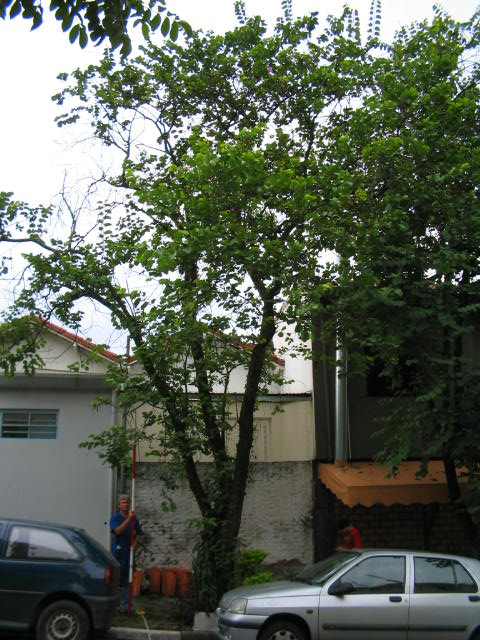crown: (4, 8, 476, 401)
stem: (188, 523, 247, 615)
stick: (121, 445, 141, 618)
tree: (2, 5, 477, 616)
